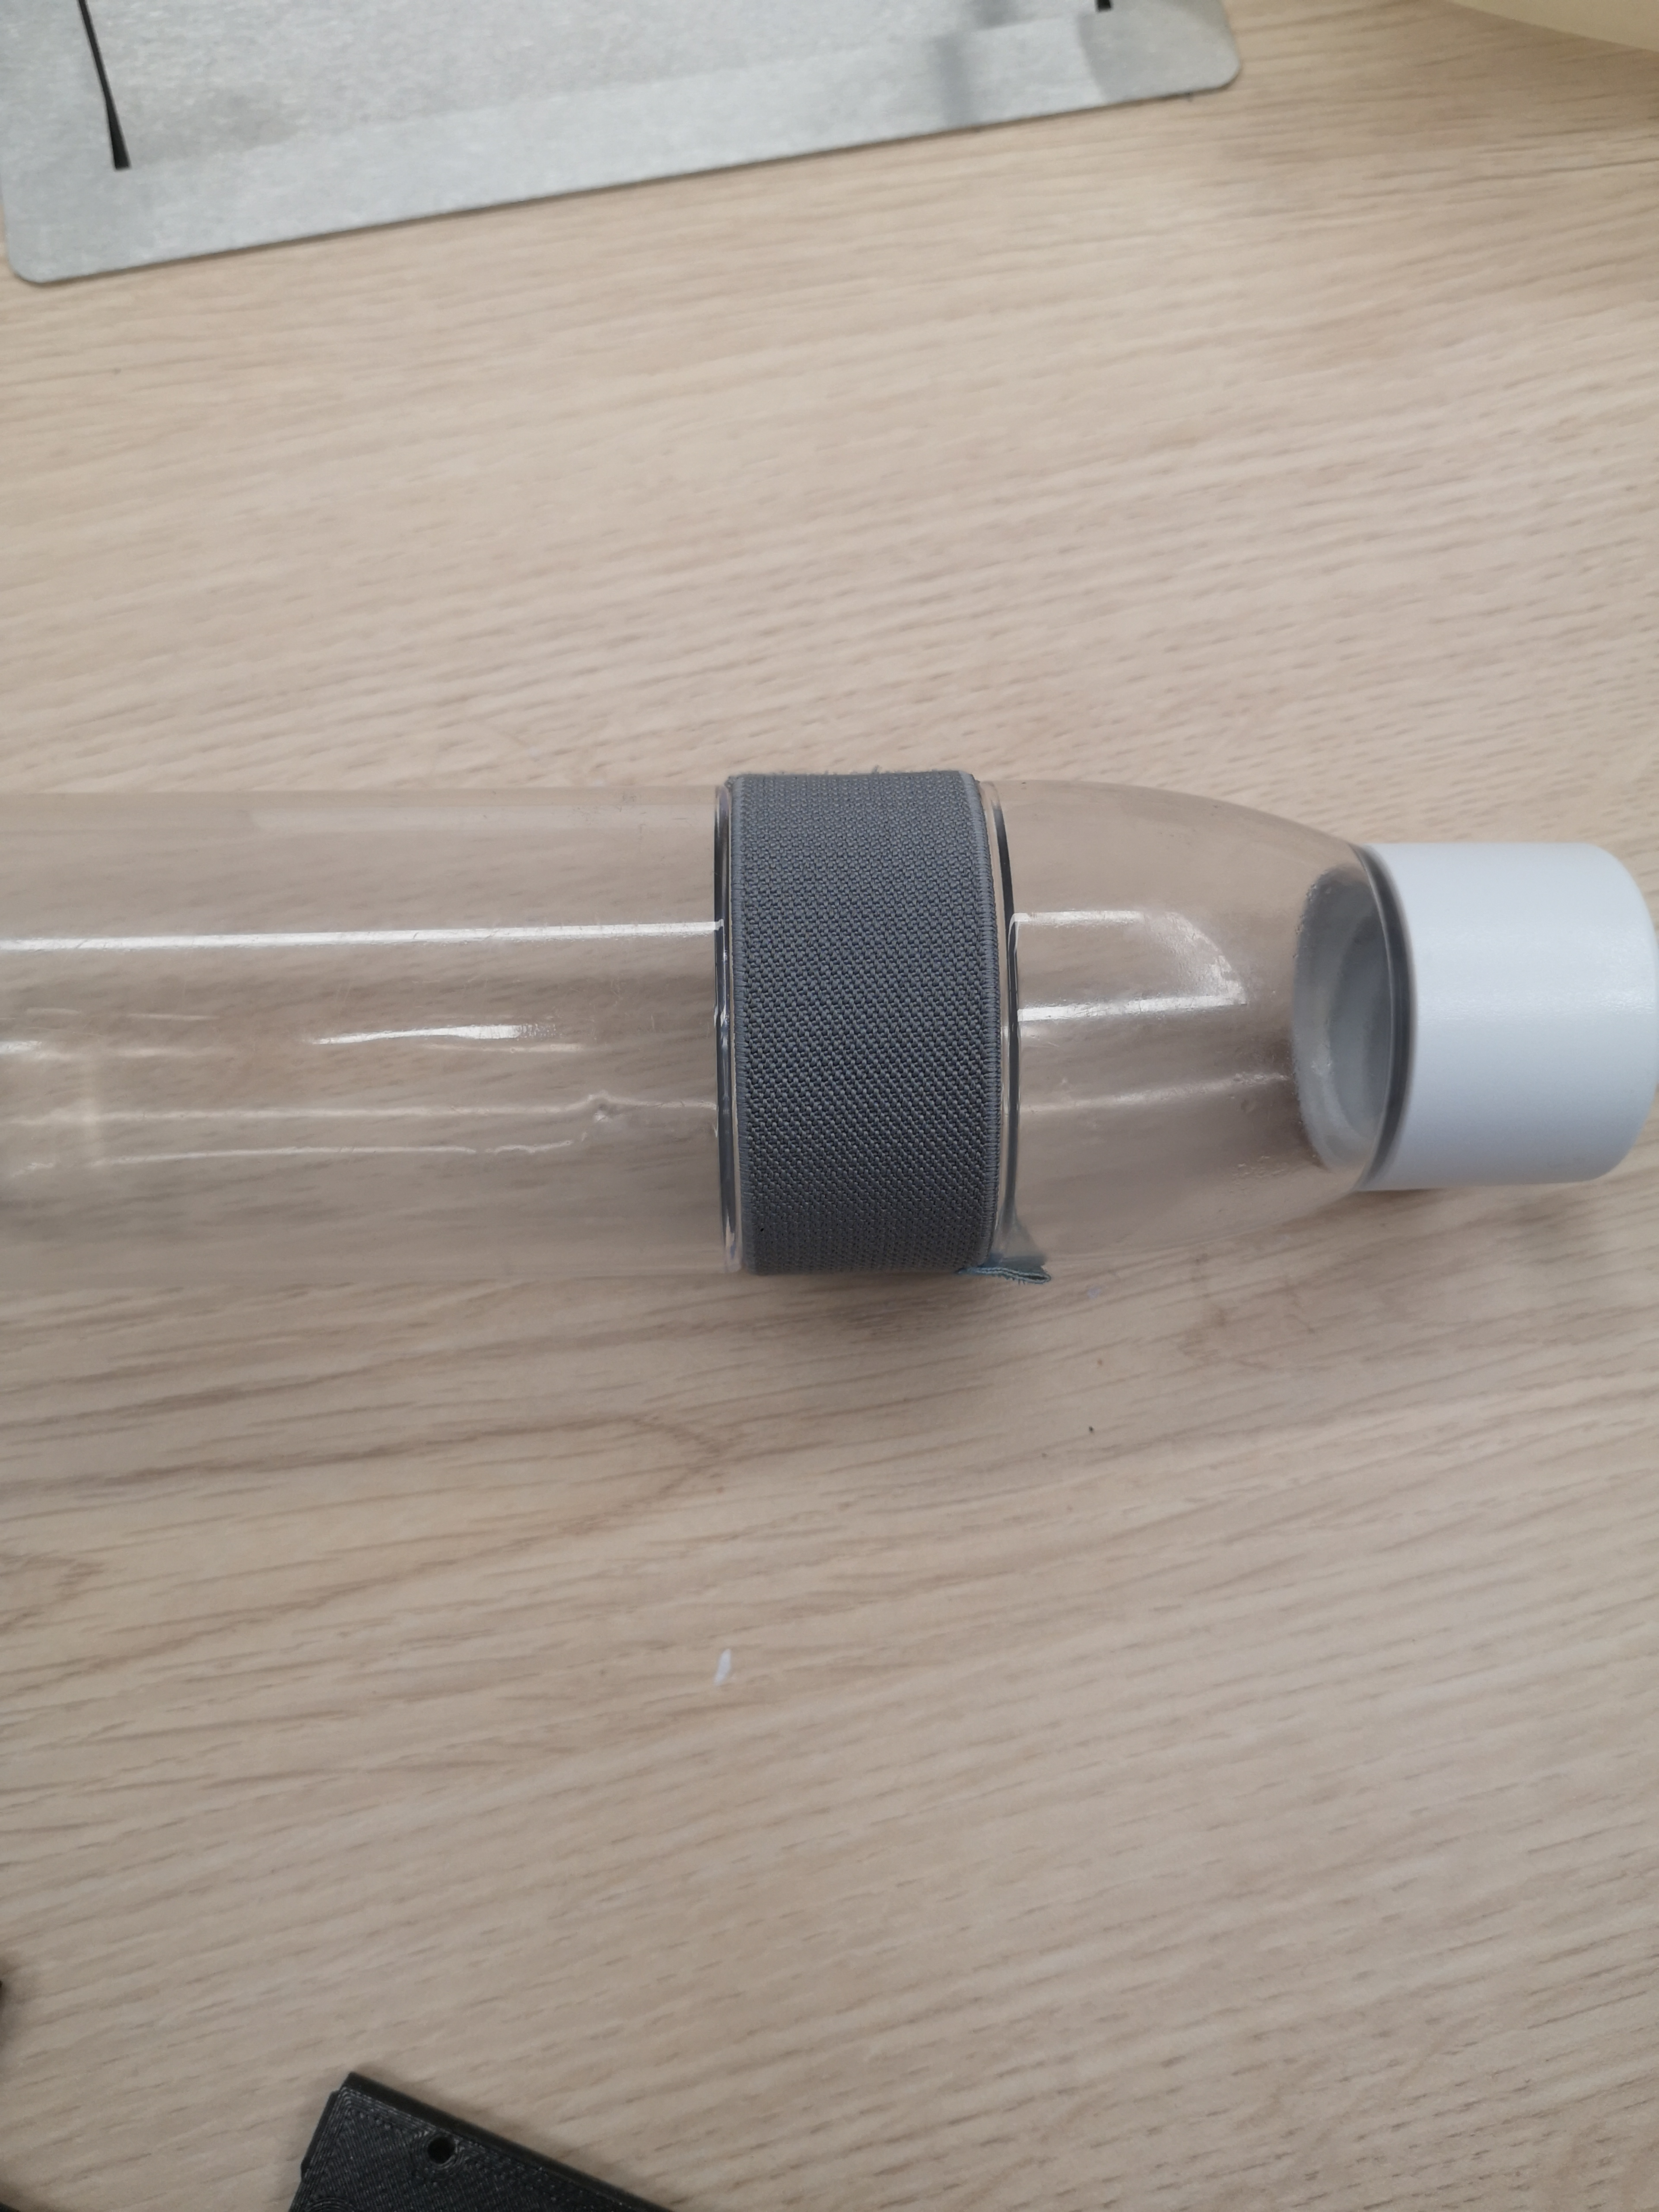plastic_bottle: (3, 751, 1659, 1299)
